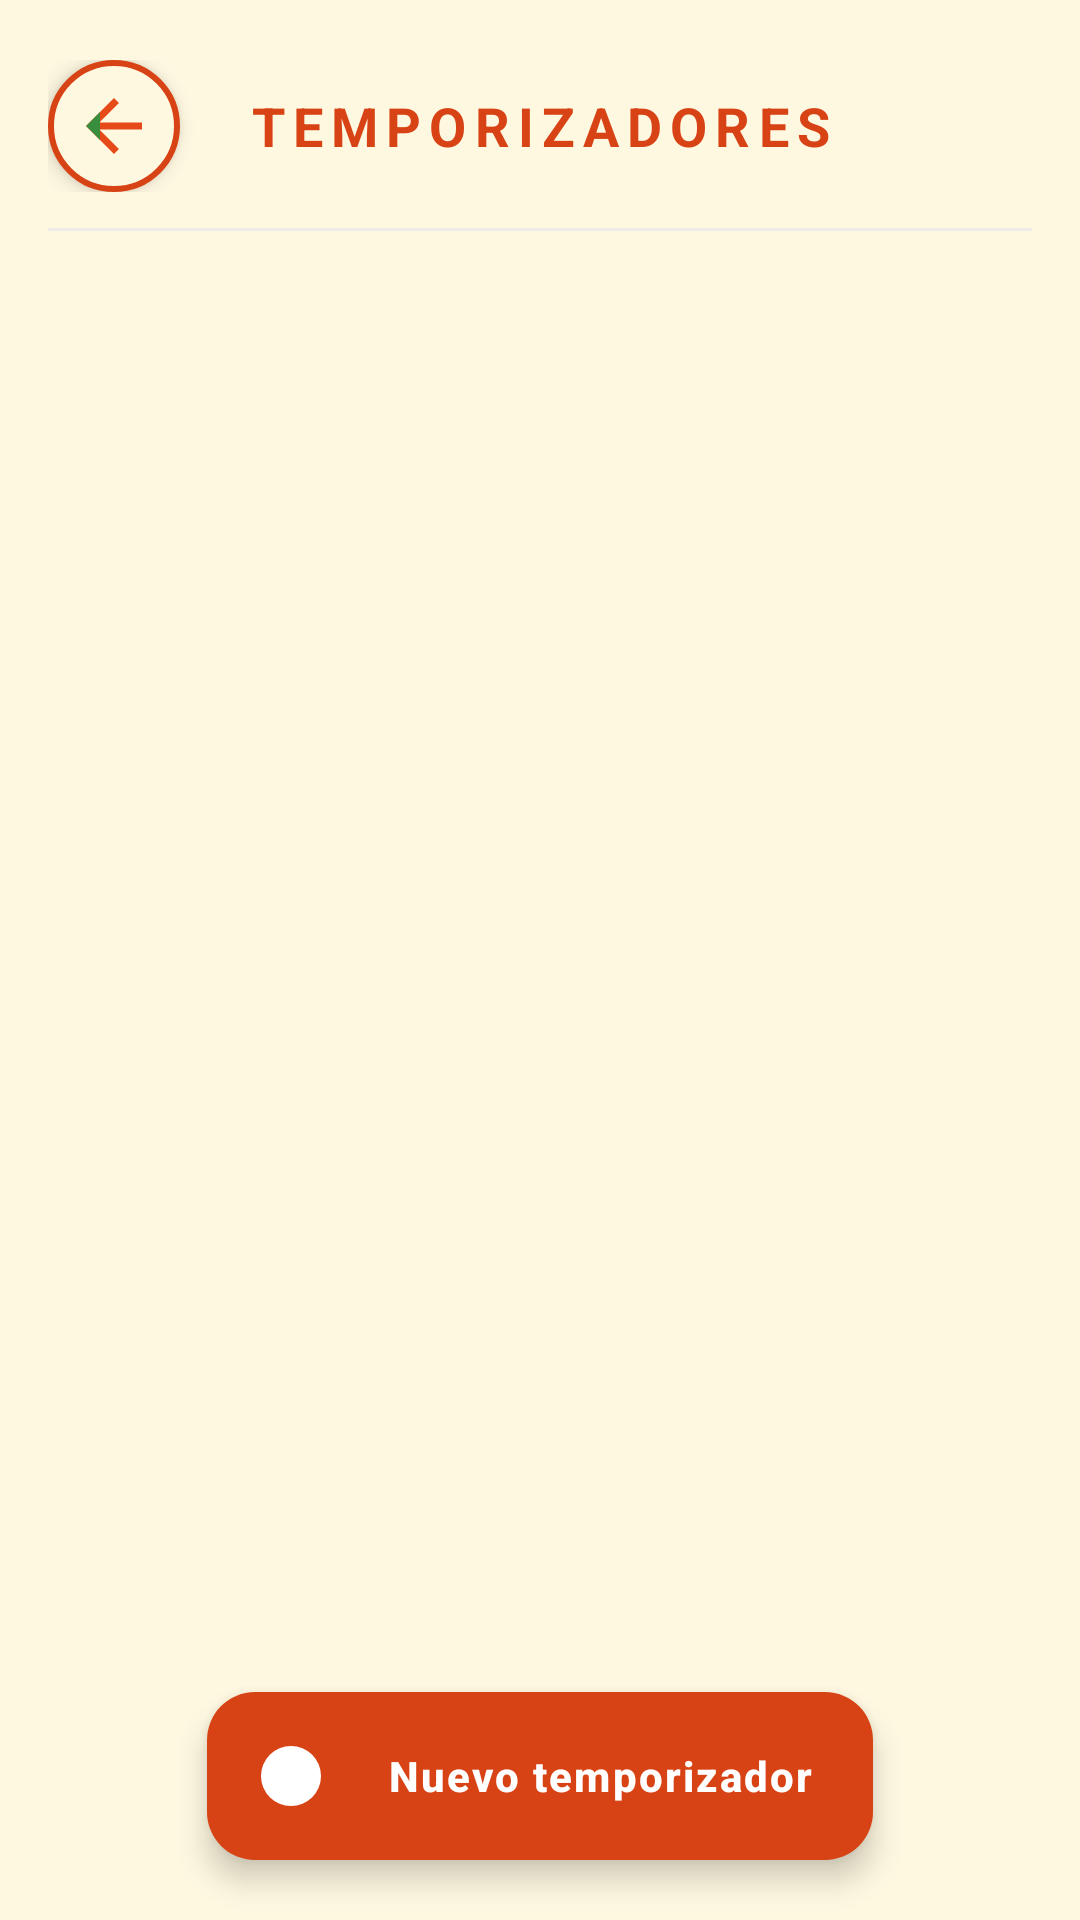

Icons on this 1080 x 1920 Android screen, each with the point to tap as point (x, y):
Regresar: point (114, 126)
